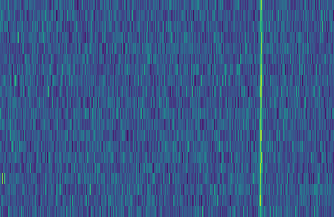signal: (257, 0, 267, 217)
